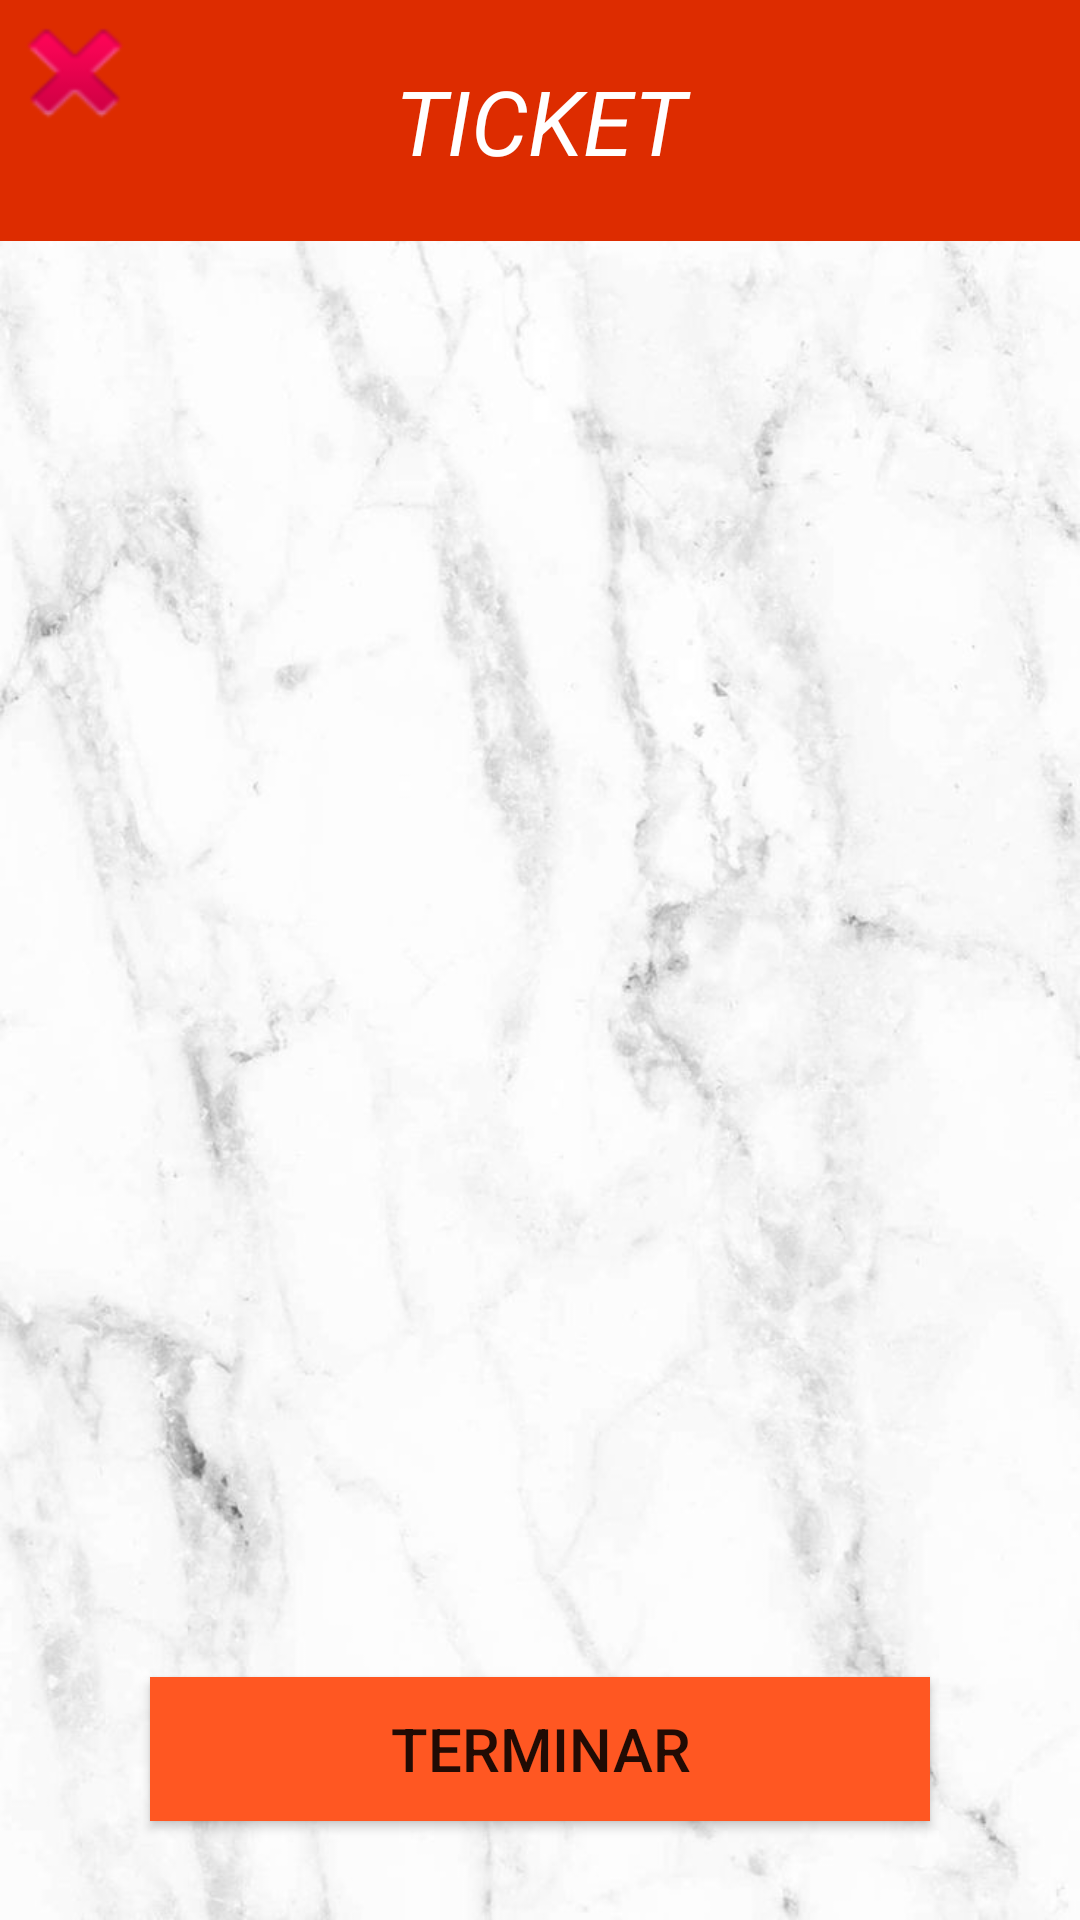

Where to tap for icons on this 1080x1920 app screen, as (x,y):
delete: (75,73)
